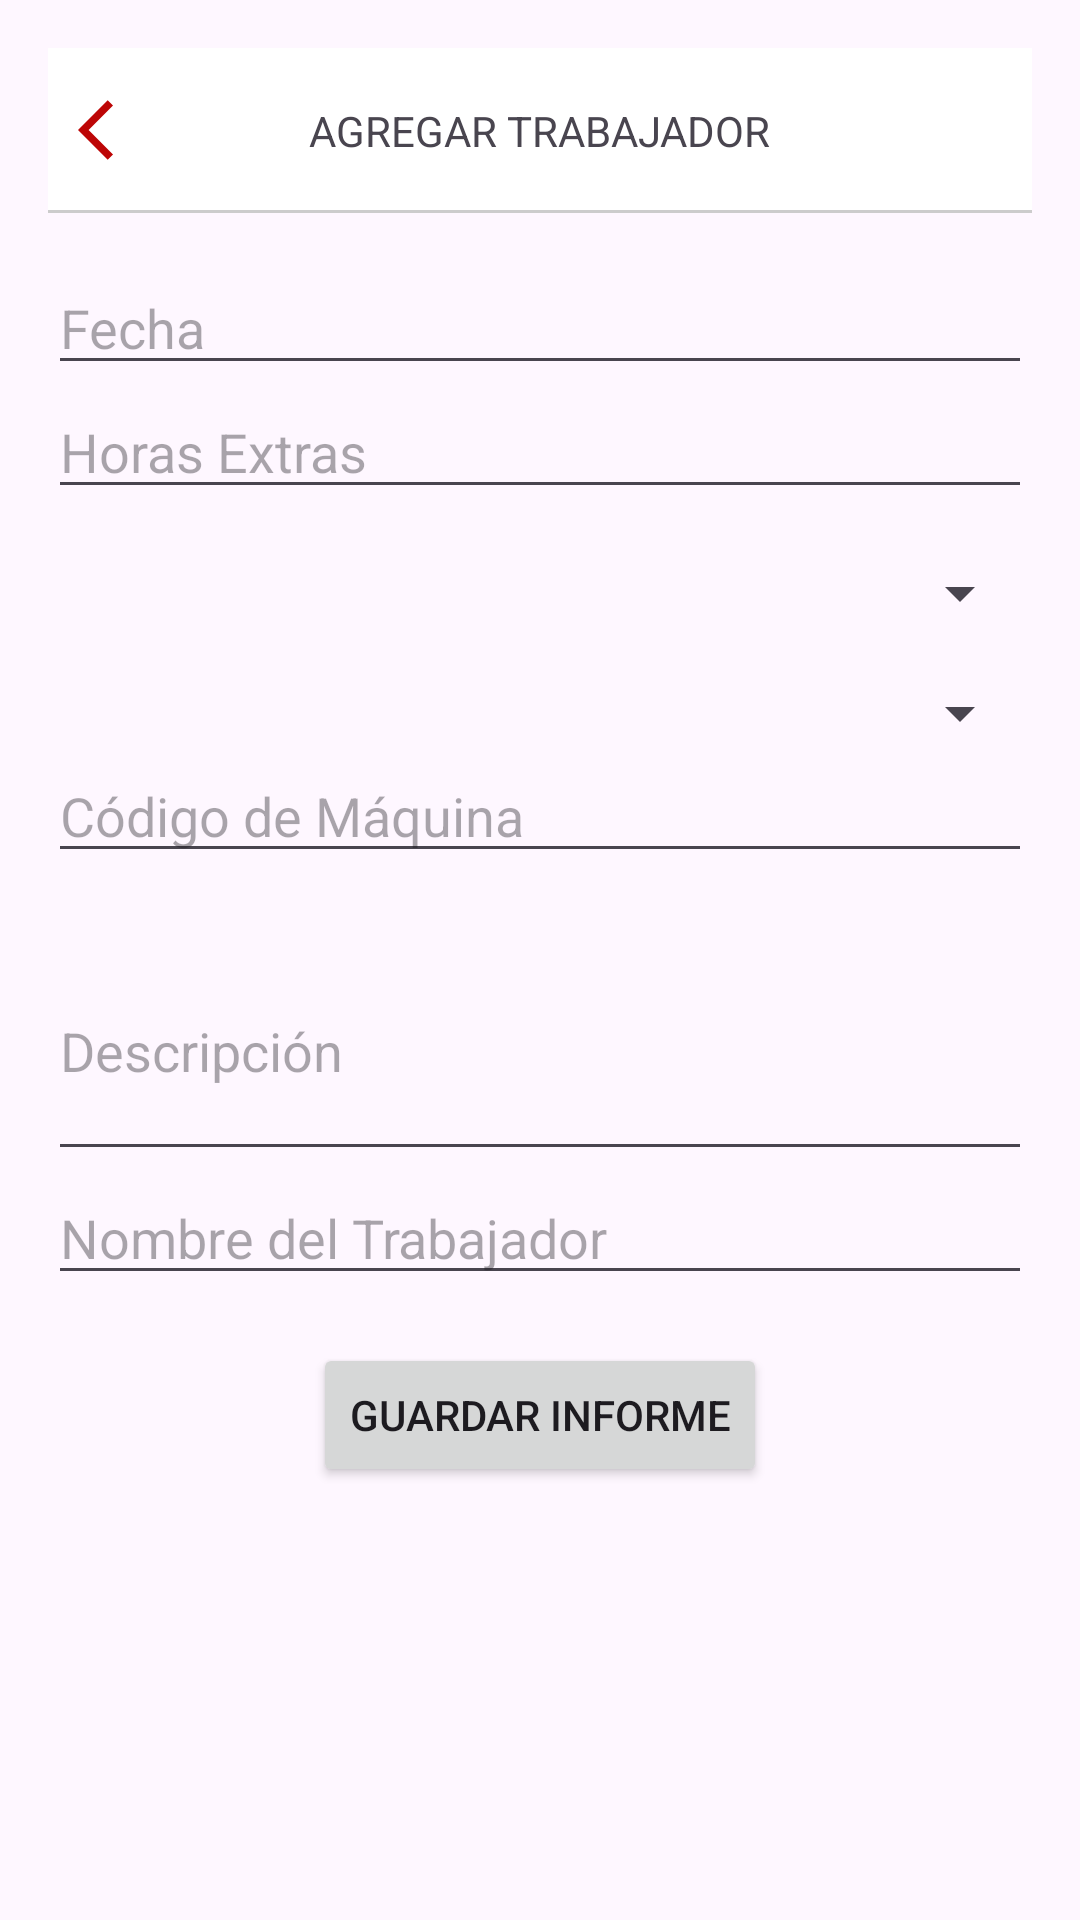

Where to tap for icons on this 1080*1920 app screen, as (x,y):
regresar: (95,130)
